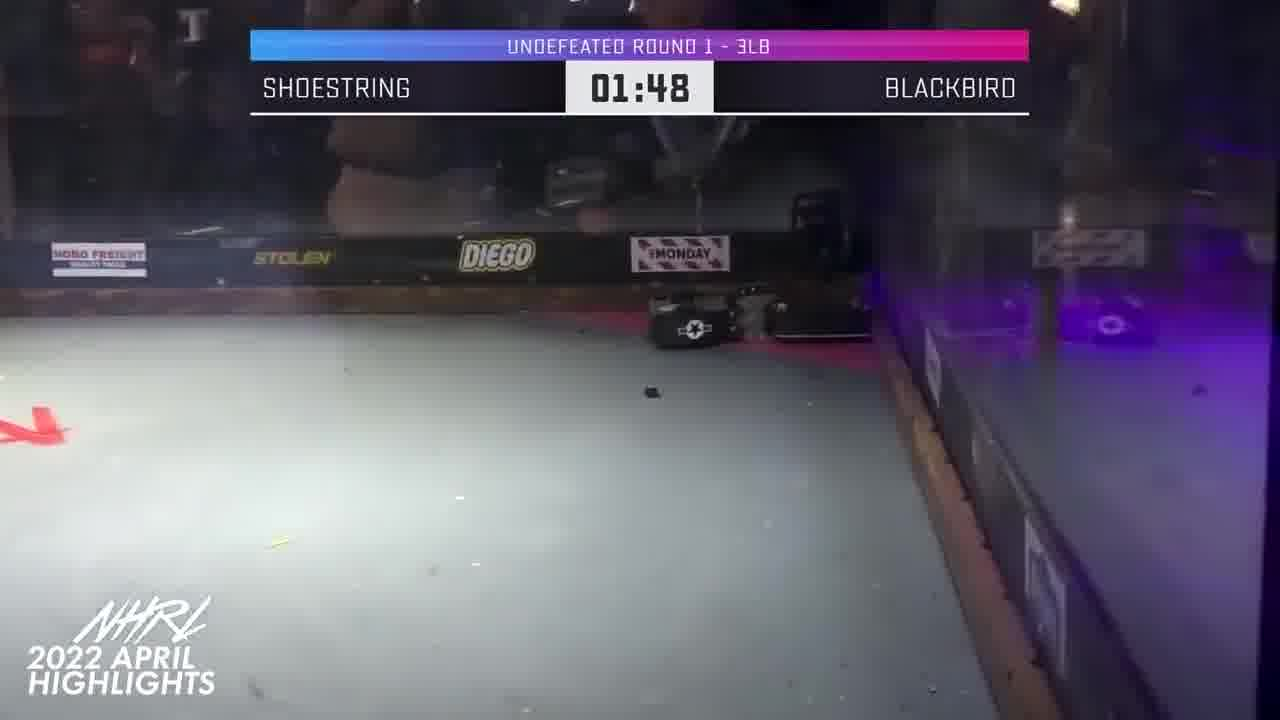combatbot: (648, 295, 740, 350)
debris: (0, 404, 79, 451)
